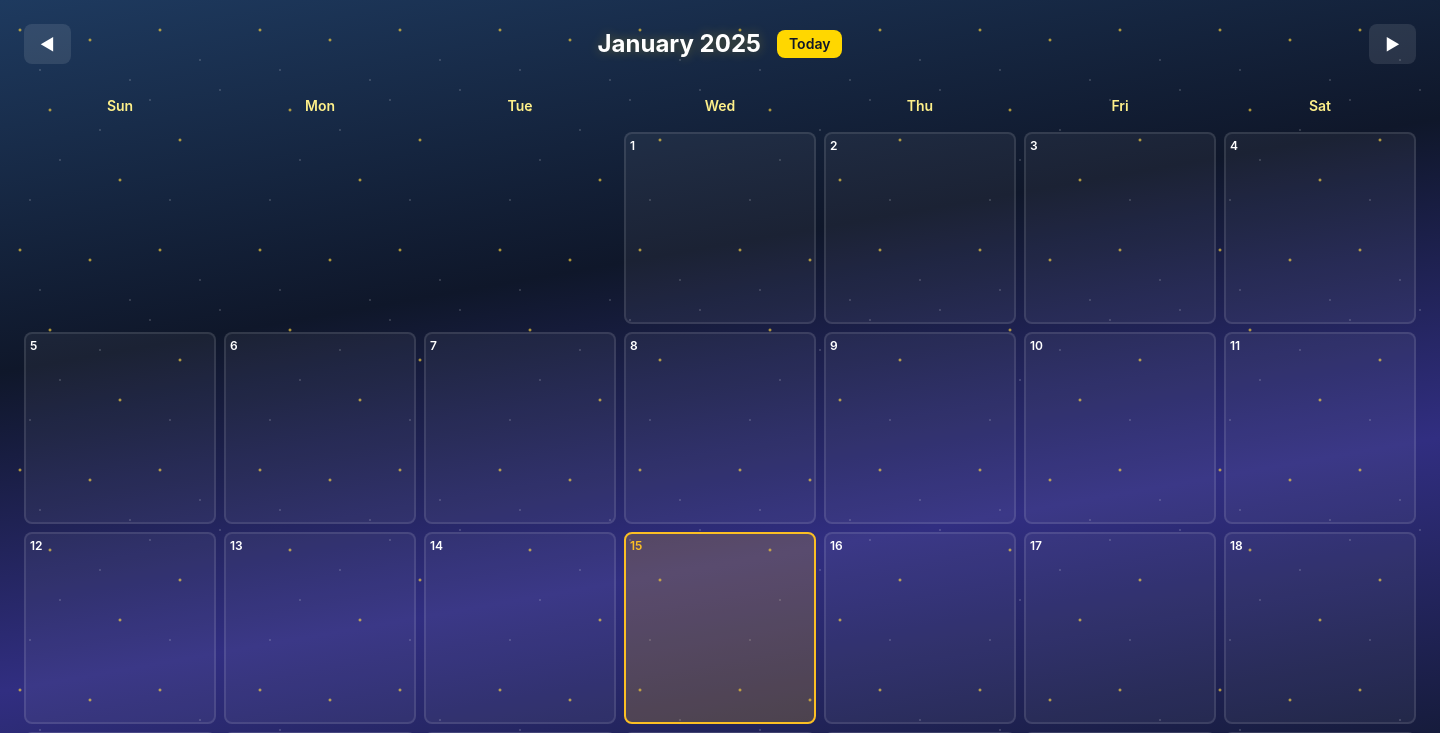
Test: CalendarView › Navigation › goes to today when Today button is clicked
# Navigate to a different month first
Click the button "▶". click: (1393, 44)
box: top-left (1369, 24), bottom-right (1416, 64)
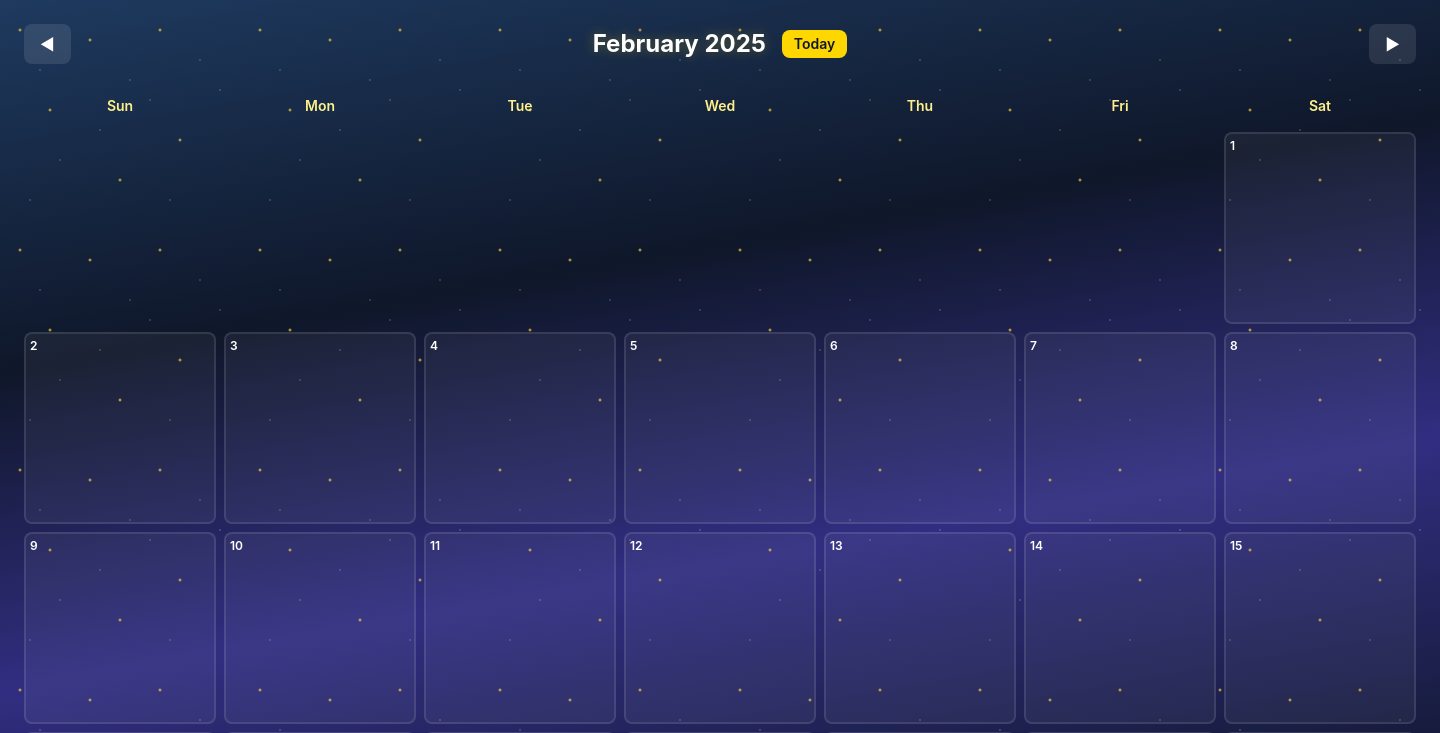
Click the button "▶". click: (1393, 44)
box: top-left (1369, 24), bottom-right (1416, 64)
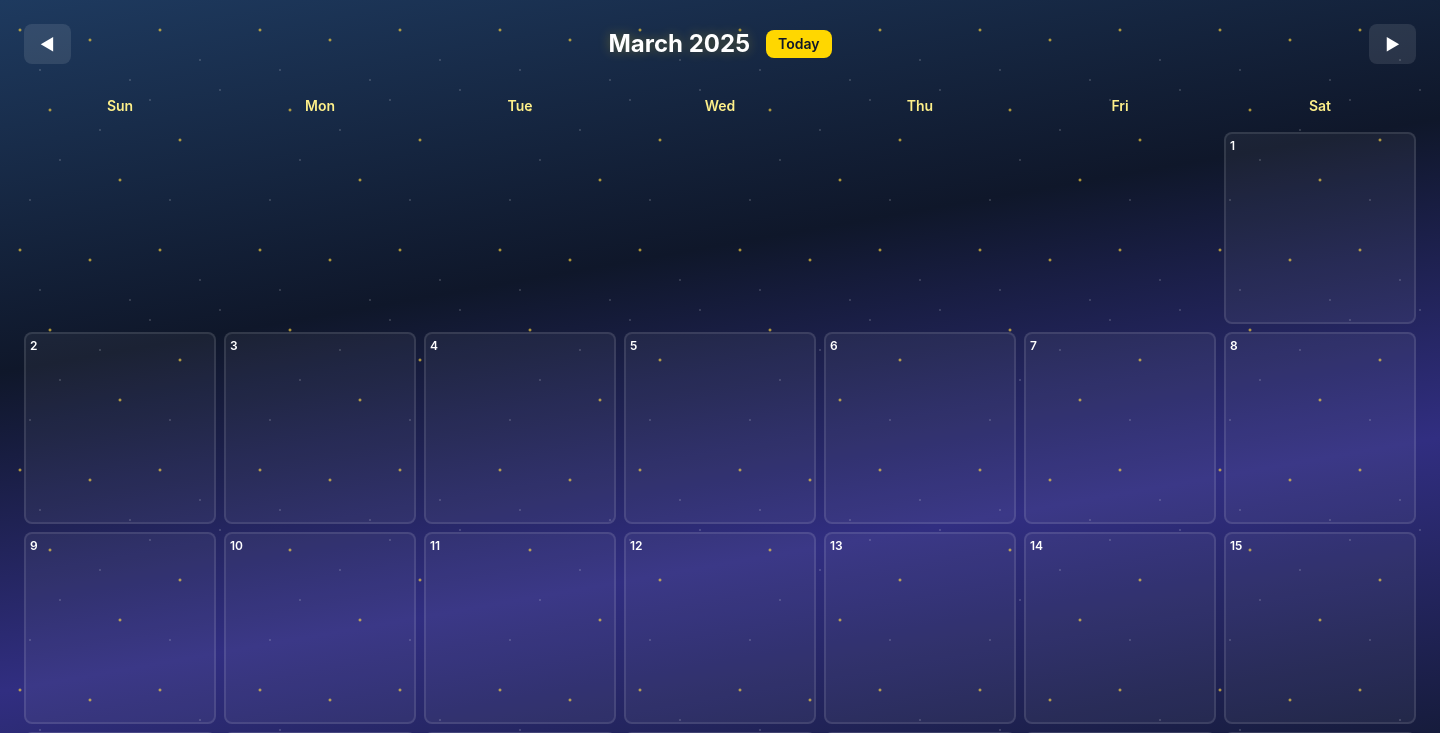
Now the heading "March 2025" is shown, box top-left (608, 28), bottom-right (750, 60)
# Click "Today" button (the first one, which is the nav button)
Click the button "Today". click: (799, 44)
box: top-left (766, 30), bottom-right (832, 58)
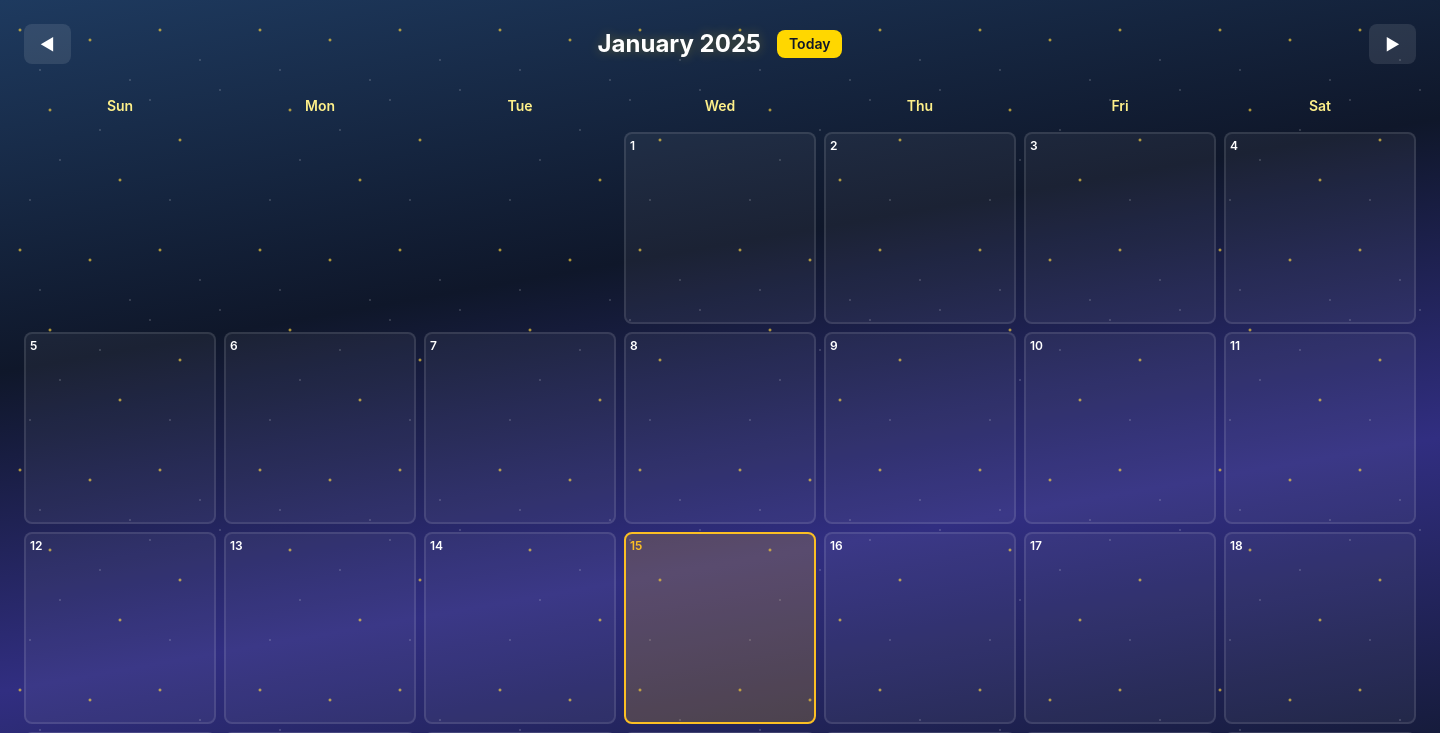
Now the heading "January 2025" is shown, box top-left (598, 28), bottom-right (761, 60)
